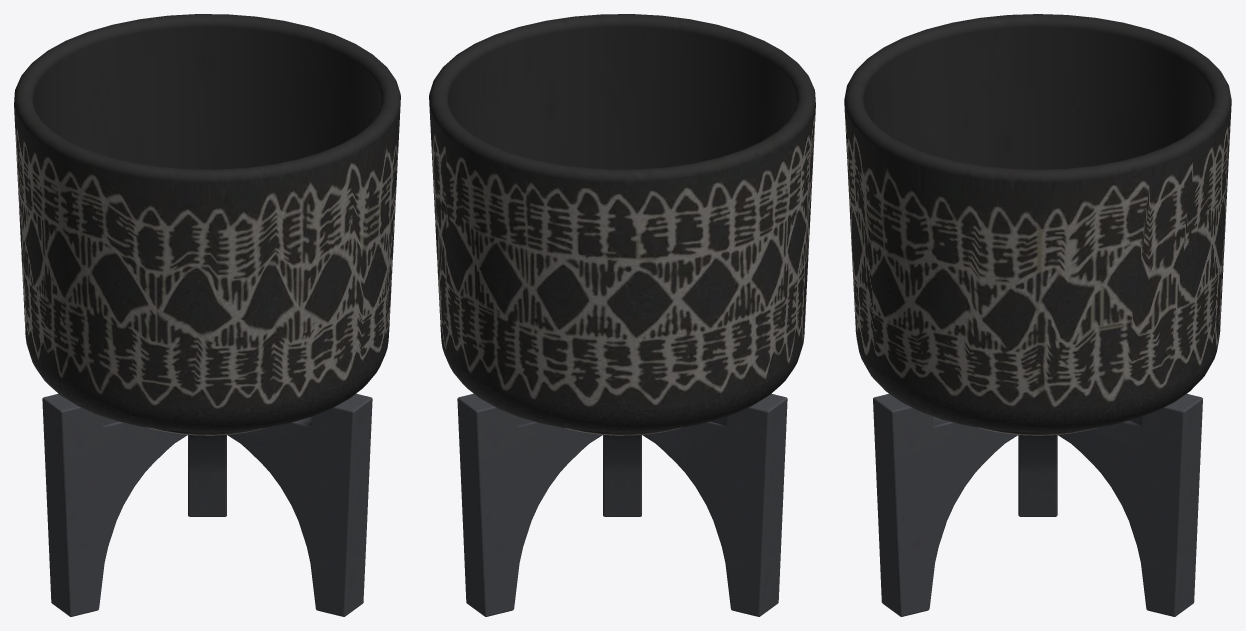
3 renders of one model, left to right at view 1: azimuth 30°, elevation 25°; view 2: azimuth 150°, elevation 25°; view 3: azimuth 270°, elevation 25°, orthographic.
Visible parts, largest first — view 1: RootNode; view 2: RootNode; view 3: RootNode.
Part boxes in pixels (x1,y1,x2,y2): RootNode: [14, 14, 400, 616]; RootNode: [429, 14, 815, 616]; RootNode: [844, 14, 1231, 616].
Bounding box in the file's own units: 0.1293 × 0.1774 × 0.1293.
1 material, 1 textured.
